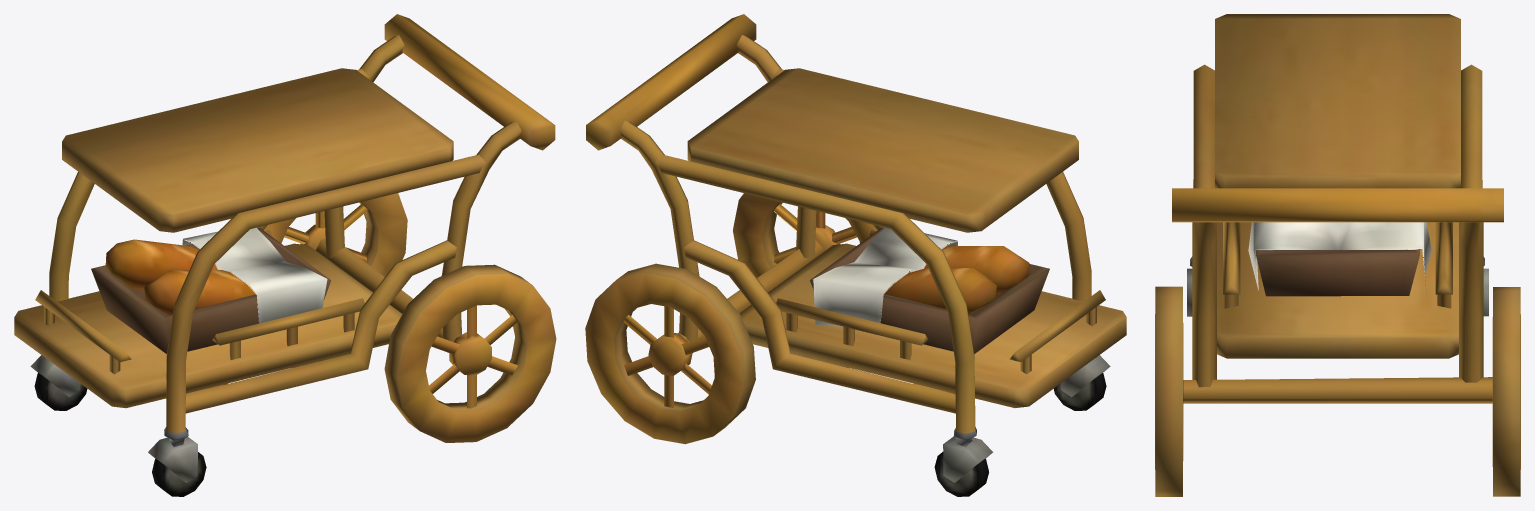
3 renders of one model, left to right at view 1: azimuth 30°, elevation 25°; view 2: azimuth 150°, elevation 25°; view 3: azimuth 270°, elevation 25°, orthographic. The views are drawn at different scales.
Size of the model in its own units: 9.96 by 6.78 by 6.61.
Materials: 1 (1 with a texture image).
